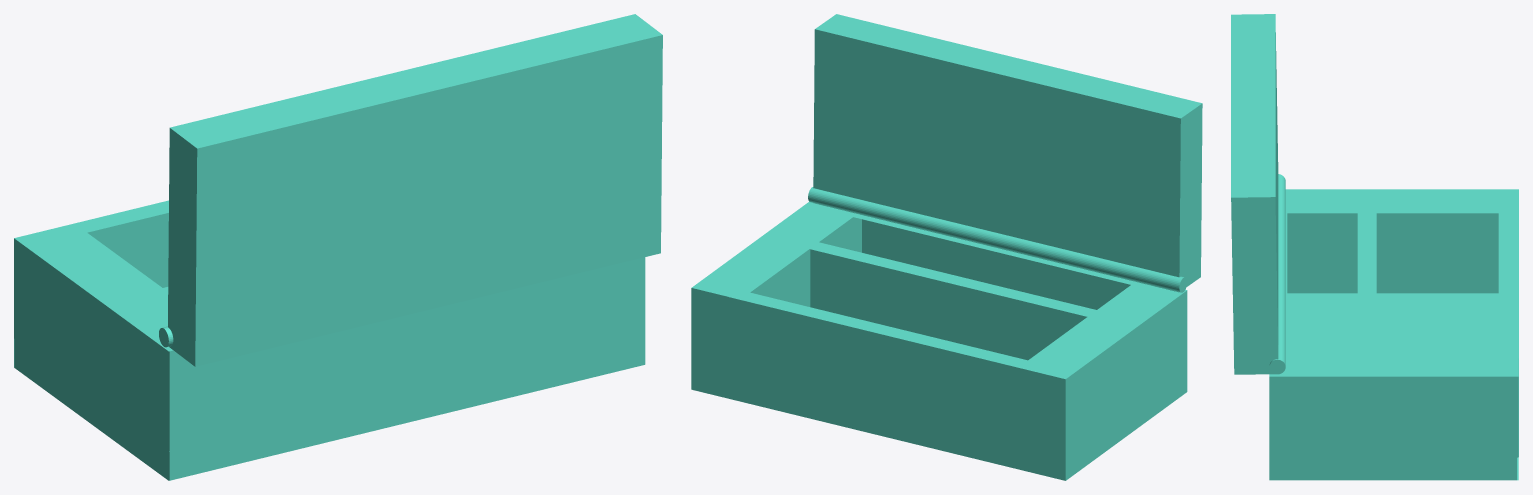
File: TOOLBOX_.fbx
3 views of the same model, side by side, from view 1: azimuth 30°, elevation 25°; view 2: azimuth 150°, elevation 25°; view 3: azimuth 270°, elevation 25° (orthographic). The views are drawn at different scales.
Parts seen in each view (by area): view 1: Cube; view 2: Cube; view 3: Cube.
Boxes of the visible parts, x1,y1,x2,y2 form: Cube: [14, 14, 662, 480]; Cube: [691, 14, 1202, 480]; Cube: [1231, 14, 1518, 480].
Bounding box in the file's own units: 4984 × 3494 × 3238.
